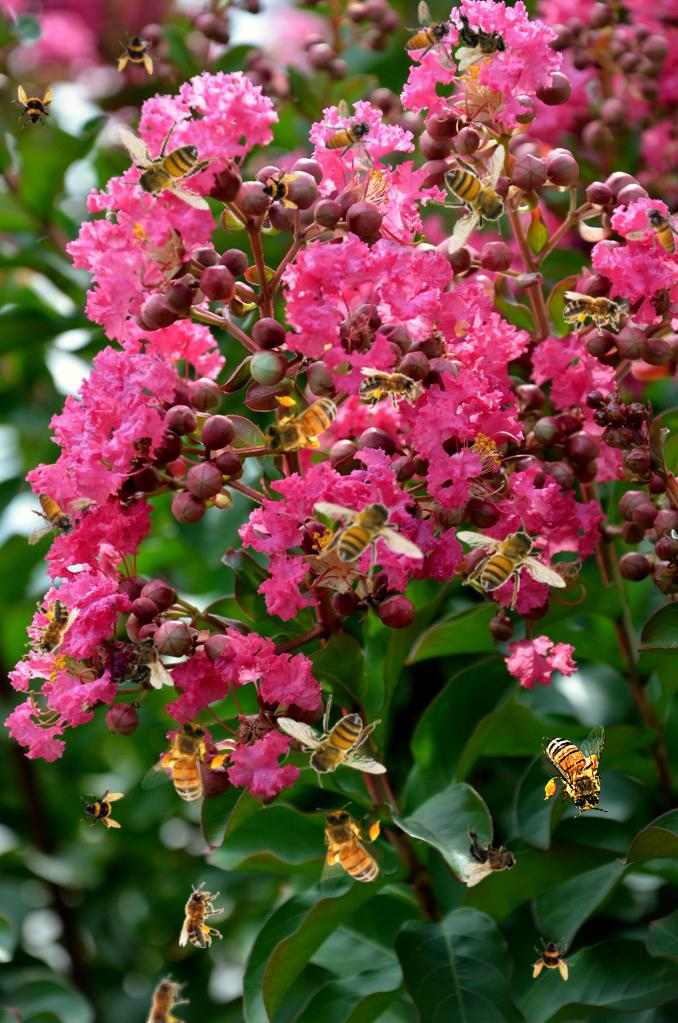Bee: (98, 104, 231, 226), (134, 705, 242, 820), (276, 694, 387, 788), (425, 144, 519, 255), (313, 488, 424, 582), (456, 517, 567, 611), (541, 725, 609, 818), (316, 802, 384, 895), (257, 392, 350, 460), (17, 482, 99, 547), (16, 591, 82, 670), (324, 99, 374, 170), (404, 0, 454, 71), (455, 9, 508, 71), (112, 636, 174, 689), (464, 825, 517, 887), (179, 882, 224, 948), (359, 367, 425, 412), (563, 291, 629, 336), (625, 205, 678, 255), (143, 970, 193, 1023), (257, 167, 301, 211), (116, 31, 160, 75), (531, 937, 575, 981), (11, 85, 55, 129), (80, 786, 124, 830)
